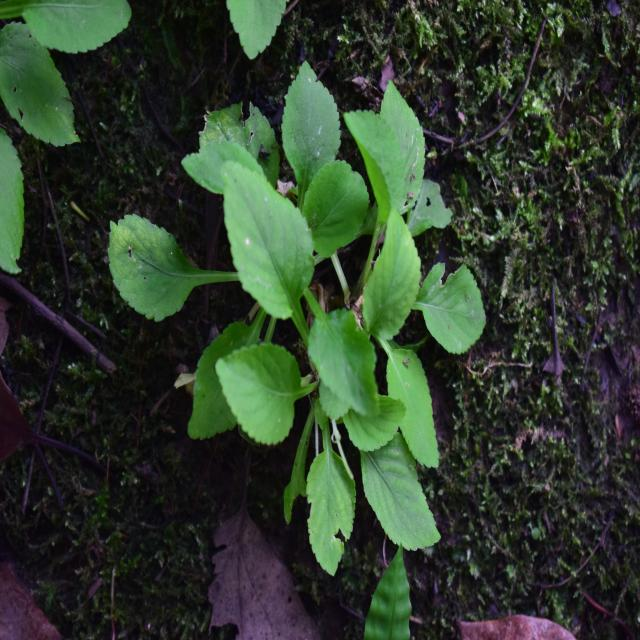Viola: (121, 104, 473, 556)
